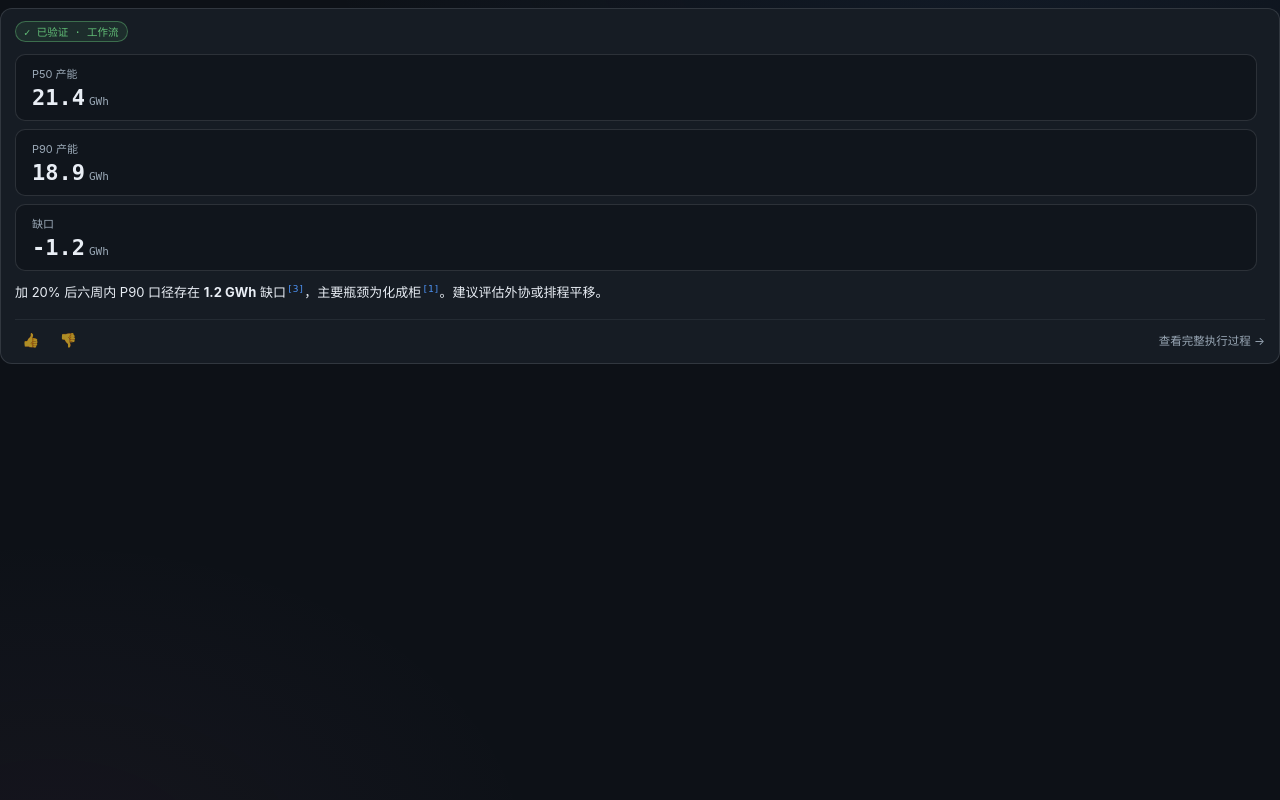
Test case: F5 · 溯源弹窗（全局唯一组件） › kpi 卡点击打开（含 TS_AGGREGATE 形态文案）
Click the element with test id "kpi-prov-a2-2" at (636, 162), box [15,129,1257,196]
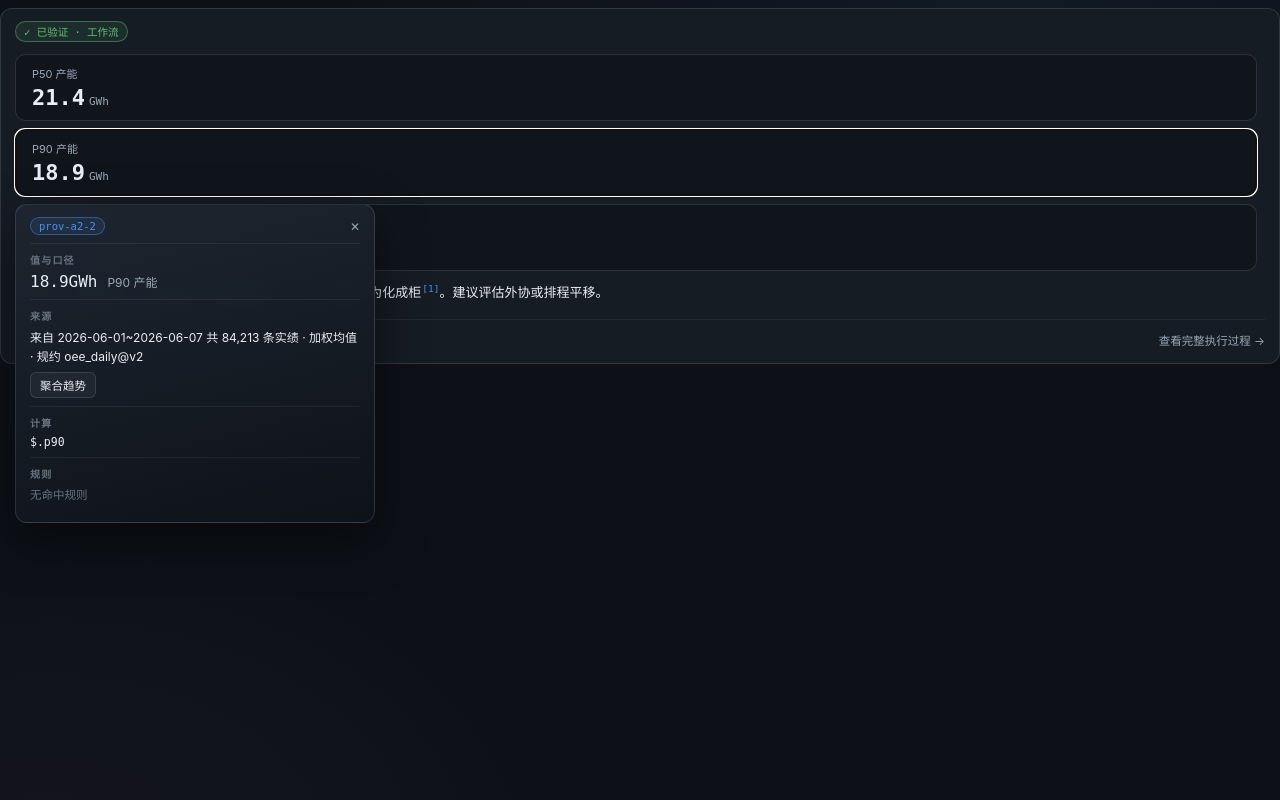
Now the heading "值与口径" is shown, box [30,255,75,266]
Now the heading "来源" is shown, box [30,311,52,322]
Now the heading "计算" is shown, box [30,418,52,429]
// 趋势小图（聚合查询，不出原始行）
Click the button "聚合趋势" at (63, 385), box [30,372,96,398]
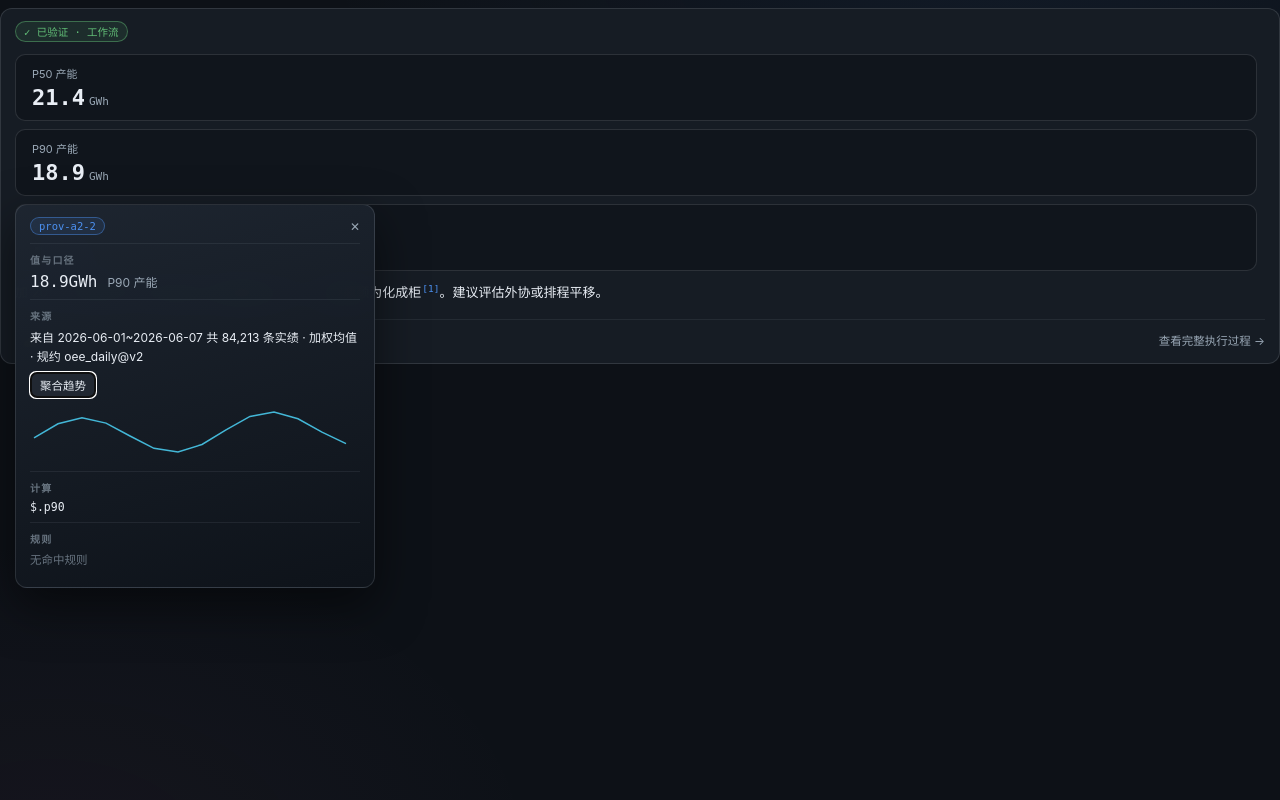
Now the icon with test id "ts-trend" is shown, box [30,404,350,460]
